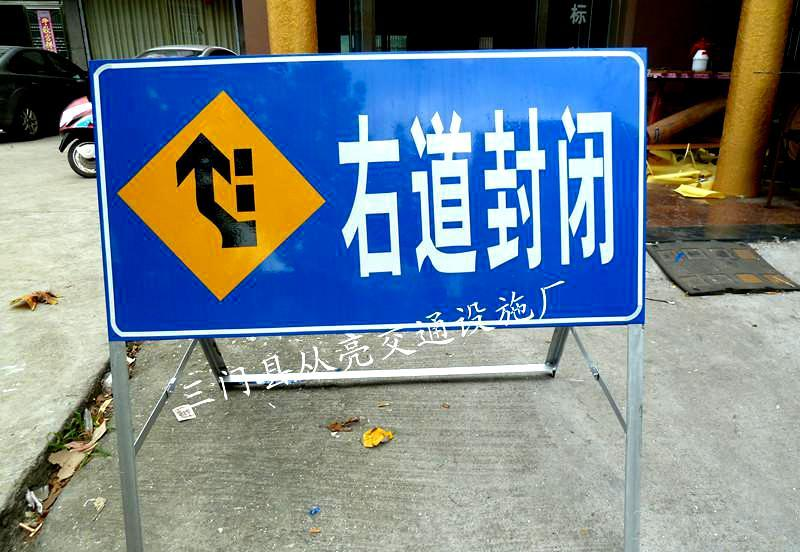sign: (108, 52, 643, 348)
